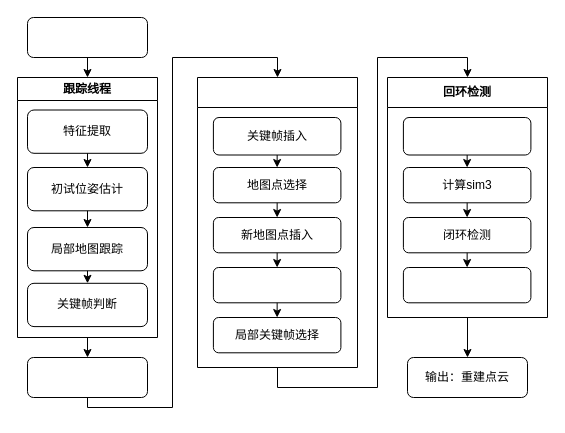
Image size: 565x433. Some labels were removed from this diagram. Each missing label, with the box of its shape:
候选帧检测: (402, 116, 531, 155)
全局BA: (402, 266, 531, 303)
局部BA: (212, 266, 341, 303)
局部建图: (196, 76, 358, 368)
输入：图片序列: (26, 16, 148, 58)
输出：关键帧: (26, 356, 148, 398)
